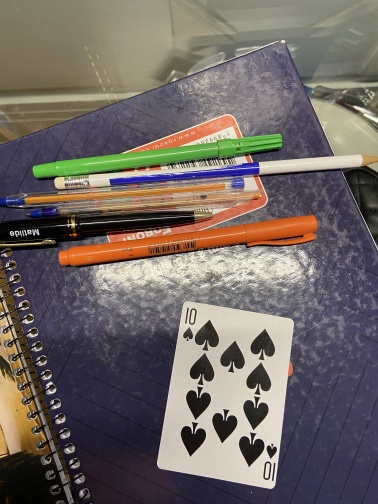ten: (154, 299, 296, 491)
